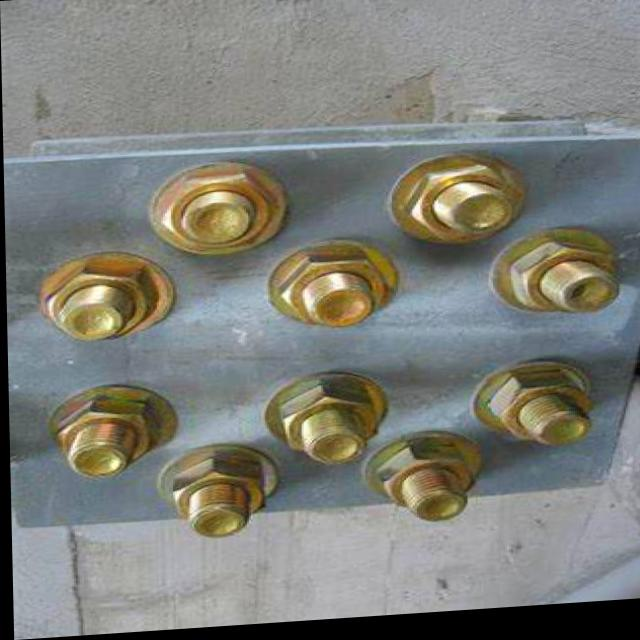Regular bolt: (399, 164, 523, 252), (157, 172, 269, 256), (44, 261, 153, 344), (272, 255, 388, 332), (485, 372, 592, 454), (510, 245, 619, 325), (52, 397, 155, 478), (275, 388, 376, 462), (374, 451, 475, 520), (168, 460, 264, 529)
